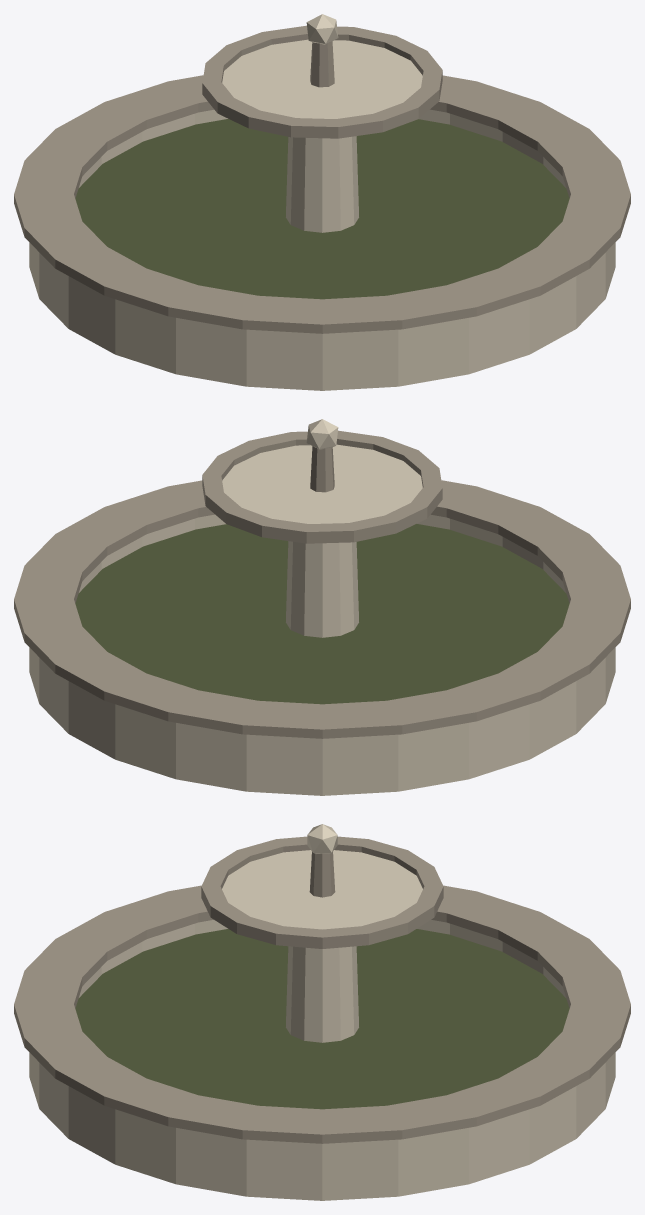
Rendered from Fountain.fbx.
3 renders of one model, top to bottom at view 1: azimuth 30°, elevation 25°; view 2: azimuth 150°, elevation 25°; view 3: azimuth 270°, elevation 25°, orthographic.
Parts seen in each view (by area): view 1: Fountain, Fountain_Water; view 2: Fountain, Fountain_Water; view 3: Fountain, Fountain_Water.
Boxes of the visible parts, left/top/right/bottom form: Fountain: left=14, top=14, right=630, bottom=390; Fountain_Water: left=75, top=119, right=569, bottom=299; Fountain: left=14, top=419, right=630, bottom=795; Fountain_Water: left=75, top=524, right=569, bottom=704; Fountain: left=14, top=824, right=630, bottom=1200; Fountain_Water: left=75, top=929, right=569, bottom=1109.
Size of the model in its own units: 4.84 by 2.19 by 4.84.
